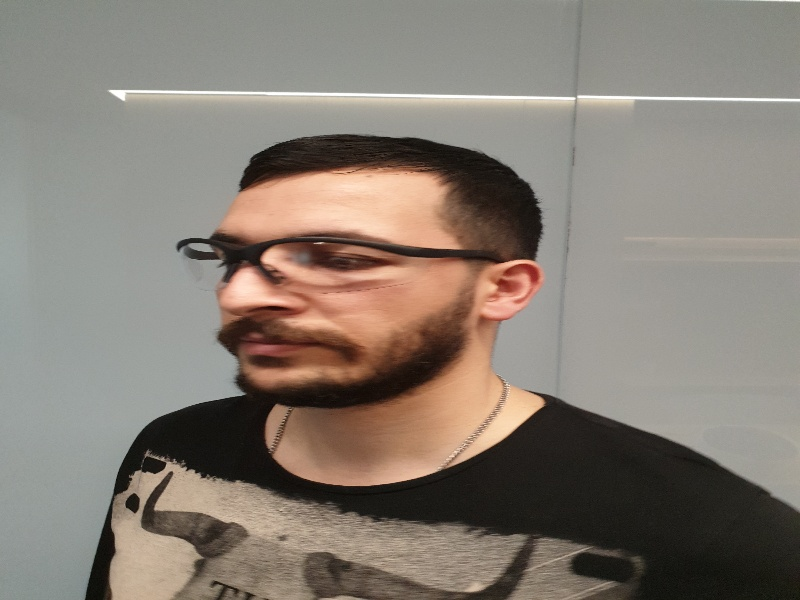Gozluk: (171, 237, 501, 290)
